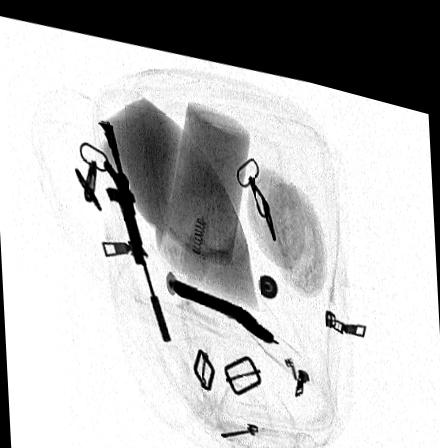Gun: (96, 115, 173, 333), (169, 267, 280, 332)
